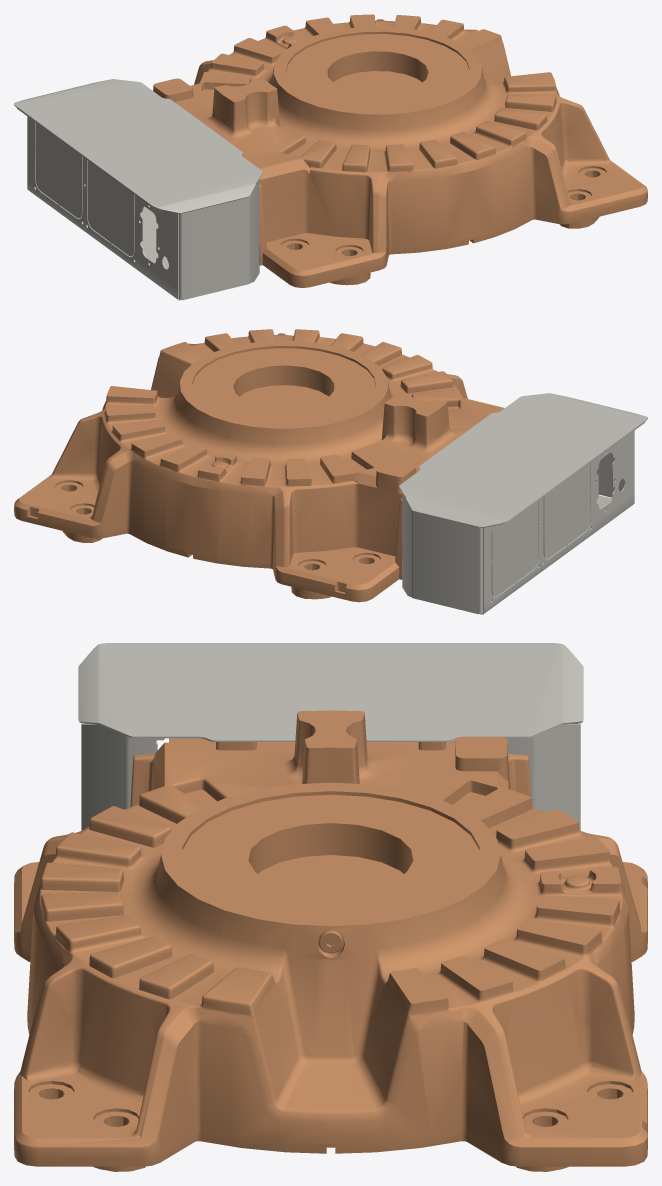
3 views of the same model, one above another, from view 1: azimuth 30°, elevation 25°; view 2: azimuth 150°, elevation 25°; view 3: azimuth 270°, elevation 25° (orthographic). The views are drawn at different scales.
Parts seen in each view (by area): view 1: base_link, cable_box; view 2: base_link, cable_box; view 3: base_link, cable_box.
Part boxes in pixels (<box>): base_link: <box>153,14,647,287</box>; cable_box: <box>14,79,262,300</box>; base_link: <box>14,329,504,602</box>; cable_box: <box>399,393,647,614</box>; base_link: <box>14,710,647,1171</box>; cable_box: <box>78,643,583,830</box>.
Size of the model in its own units: 1.01 by 0.72 by 0.261.
